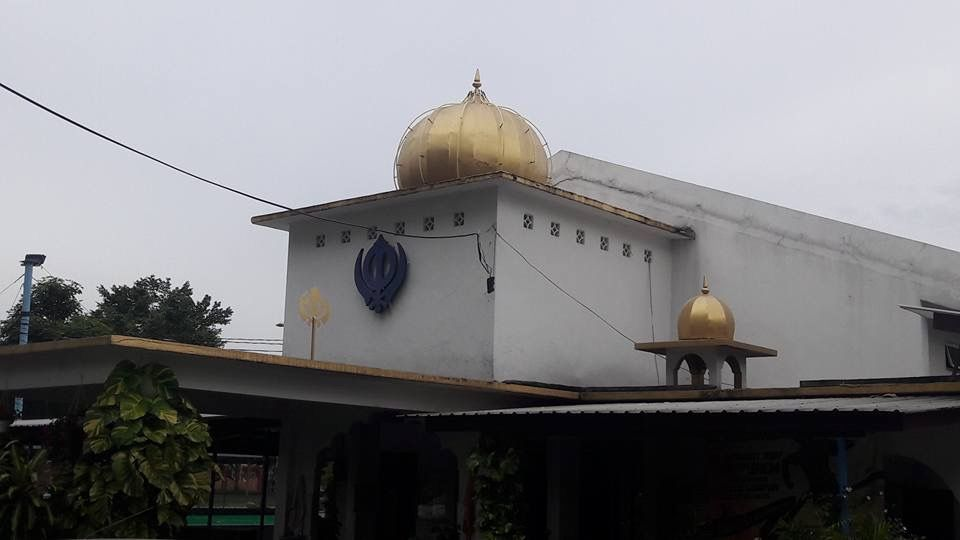Gurdwara: (258, 72, 694, 388)
